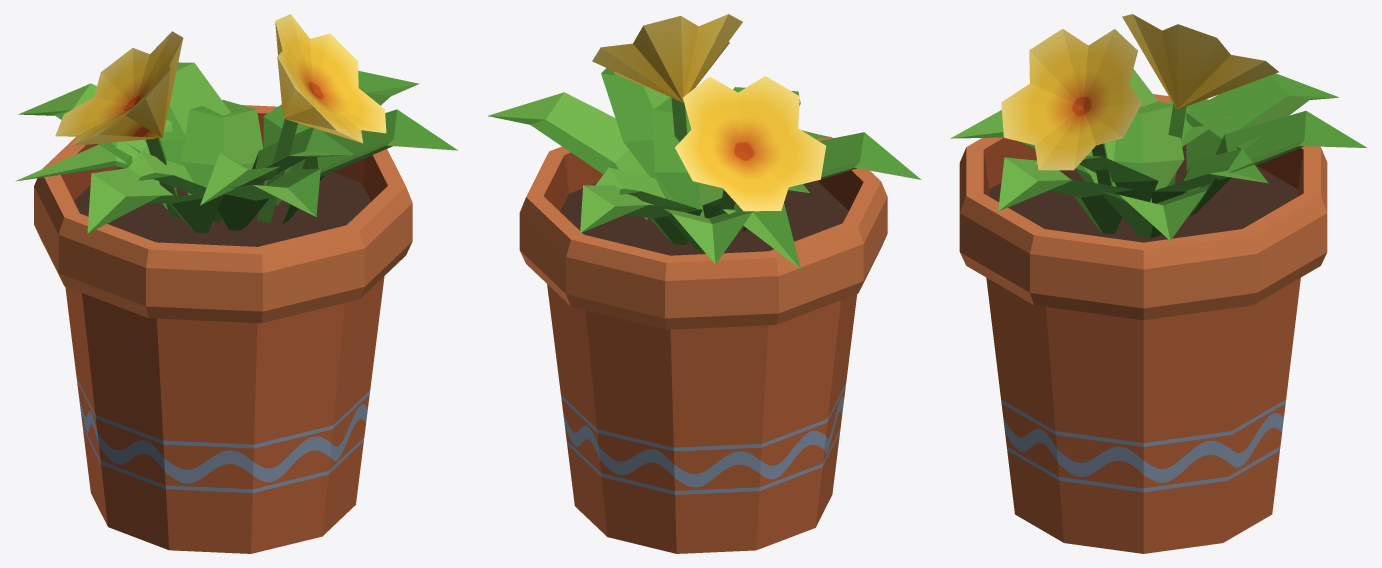
Rendered from FMS_Deco_Pot_Small.fbx.
3 renders of one model, left to right at view 1: azimuth 30°, elevation 25°; view 2: azimuth 150°, elevation 25°; view 3: azimuth 270°, elevation 25°, orthographic. The views are drawn at different scales.
Visible parts, largest first — view 1: item_decor_pot_small; view 2: item_decor_pot_small; view 3: item_decor_pot_small.
Part boxes in pixels (x1=…): item_decor_pot_small: x1=15, y1=14, x2=457, y2=553; item_decor_pot_small: x1=488, y1=14, x2=921, y2=553; item_decor_pot_small: x1=950, y1=14, x2=1366, y2=553.
Bounding box in the file's own units: 0.1655 × 0.1945 × 0.1513.
